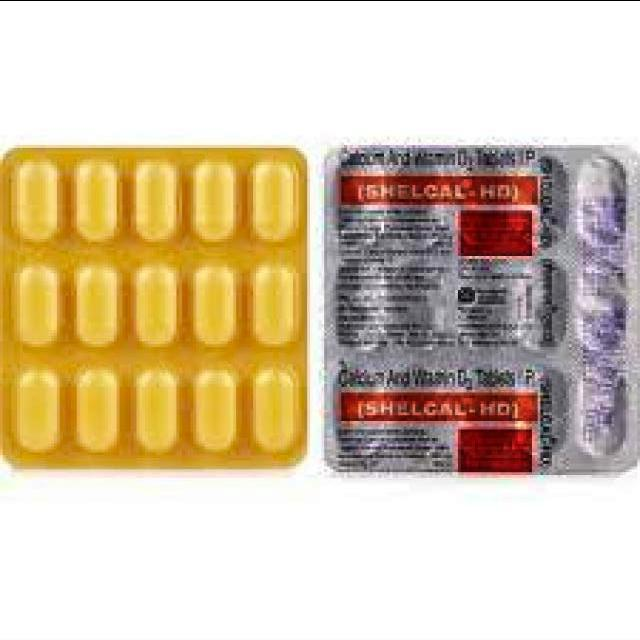authentic: (319, 138, 640, 484), (0, 137, 313, 475)
